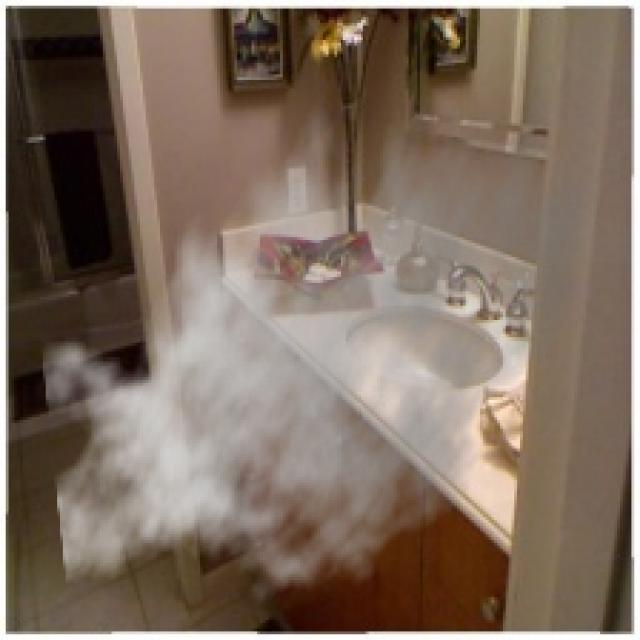smoke: (40, 69, 591, 620)
